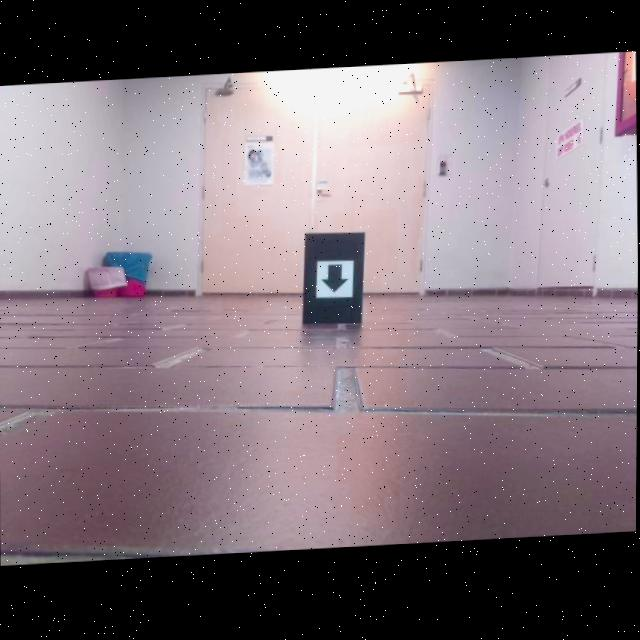DOWN: (320, 266, 350, 296)
